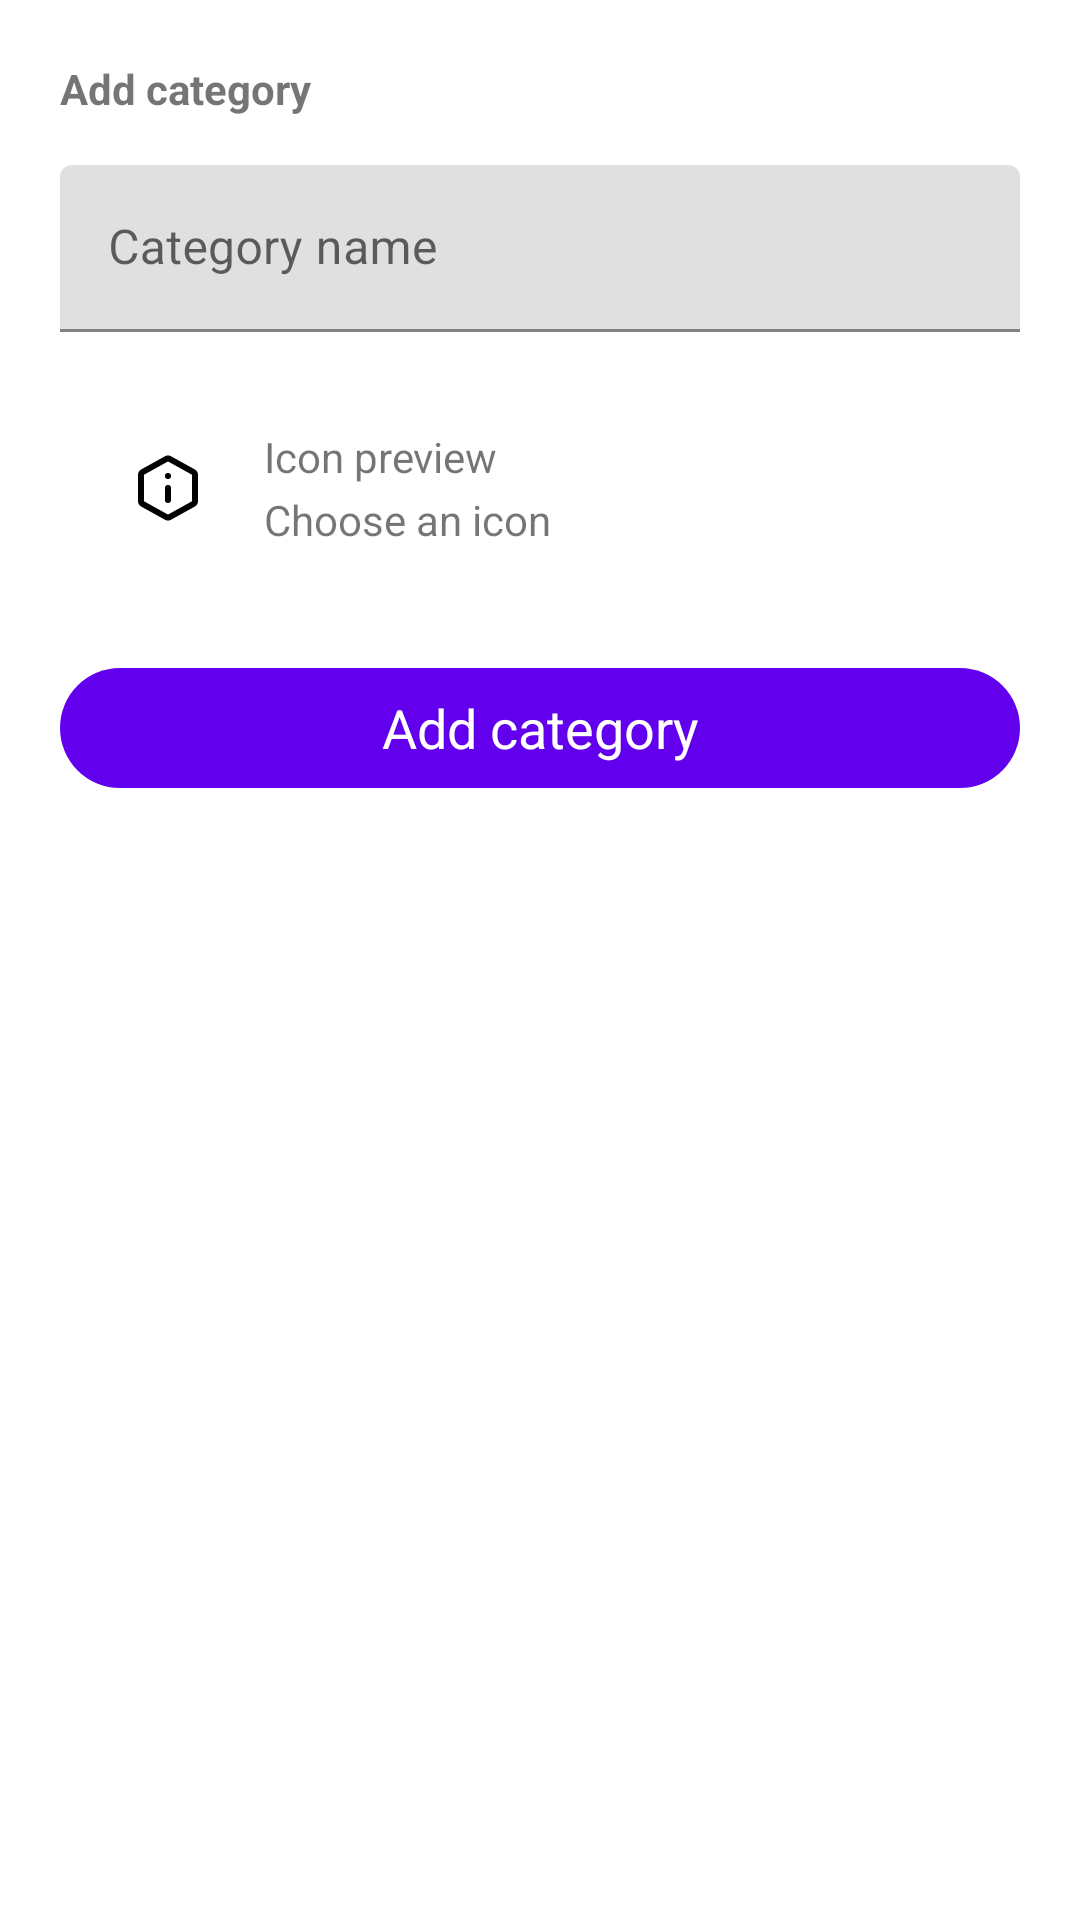

Icons on this 1080w x 1920h Android screen, each with the point to tap as point (x, y):
info: point (168, 488)
